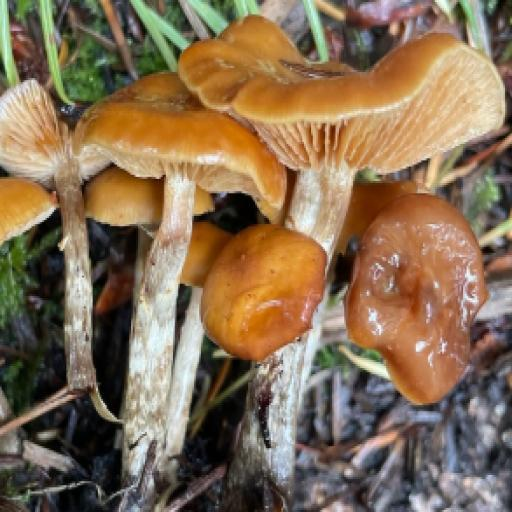mushroom: (13, 7, 508, 447)
